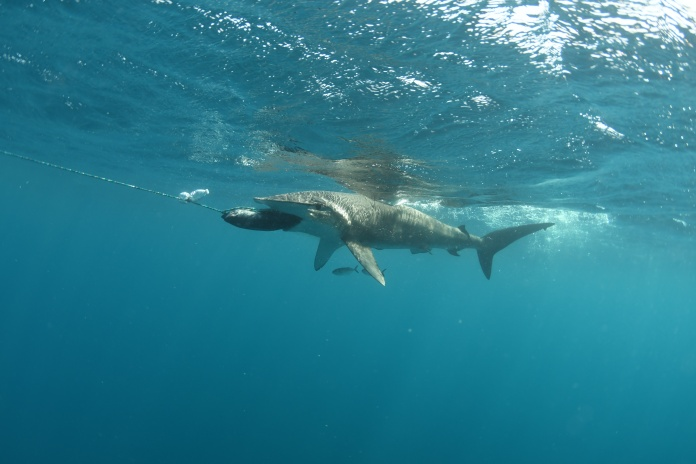Hammer: (217, 154, 582, 295)
